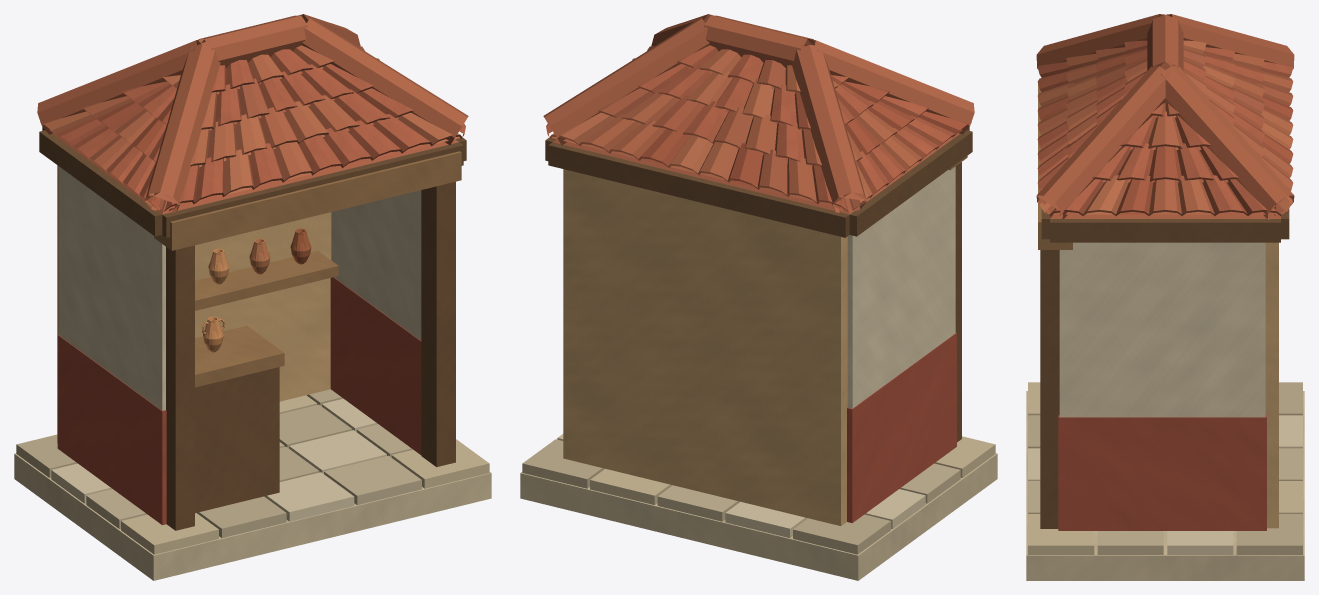
File: verona_street_shop.glb
3 renders of one model, left to right at view 1: azimuth 30°, elevation 25°; view 2: azimuth 150°, elevation 25°; view 3: azimuth 270°, elevation 25°, orthographic.
Parts seen in each view (by area): view 1: Limewash.004, Oak.004, Tile_1.004, Tile_0.004, Oak.001, Pompeian_red.004, Warm_ochre.001, Pompeian_red.001, Oak_edge.004, Oak_edge.001, Travertine.001, Warm_ochre.004 (+12 smaller); view 2: Warm_ochre.004, Tile_1.004, Limewash.001, Warm_ochre.001, Tile_0.004, Travertine.001, Oak.004, Pompeian_red.001, Pompeian_red.004, Tile_2.004, Paving_1.004, Tile_4.004 (+7 smaller); view 3: Limewash.001, Limewash.004, Pompeian_red.001, Tile_1.004, Tile_0.004, Oak.004, Pompeian_red.004, Travertine.001, Tile_5.004, Travertine.004, Oak.001, Paving_1.004 (+9 smaller).
Boxes of the visible parts, x1,y1,x2,y2 form: Limewash.004: (60,168,421,409); Oak.004: (39,127,466,526); Tile_1.004: (37,14,468,212); Tile_0.004: (57,43,465,211); Oak.001: (166,181,455,530); Pompeian_red.004: (59,279,421,496); Warm_ochre.001: (57,165,331,442); Pompeian_red.001: (57,277,421,525); Oak_edge.004: (157,156,458,384); Oak_edge.001: (154,151,461,387); Travertine.001: (14,453,491,580); Warm_ochre.004: (195,212,331,398); Warm_ochre.004: (566,170,837,522); Tile_1.004: (543,14,974,212); Limewash.001: (847,166,955,408); Warm_ochre.001: (563,169,847,525); Tile_0.004: (546,43,954,211); Travertine.001: (520,453,997,580); Oak.004: (545,127,972,437); Pompeian_red.001: (847,332,956,523); Pompeian_red.004: (847,359,955,518); Tile_2.004: (553,60,959,214); Paving_1.004: (522,439,890,554); Tile_4.004: (638,81,971,189); Limewash.001: (1059,242,1265,417); Limewash.004: (1063,242,1262,417); Pompeian_red.001: (1058,415,1266,530); Tile_1.004: (1036,14,1294,219); Tile_0.004: (1037,40,1293,215); Oak.004: (1041,208,1289,525); Pompeian_red.004: (1061,420,1263,499); Travertine.001: (1026,391,1304,580); Tile_5.004: (1037,47,1293,215); Travertine.004: (1032,531,1298,575); Oak.001: (1040,250,1059,528); Paving_1.004: (1028,382,1302,554).
Size of the model in its own units: 2.8 by 3.65 by 2.
Materials: 19 (8 with a texture image).
